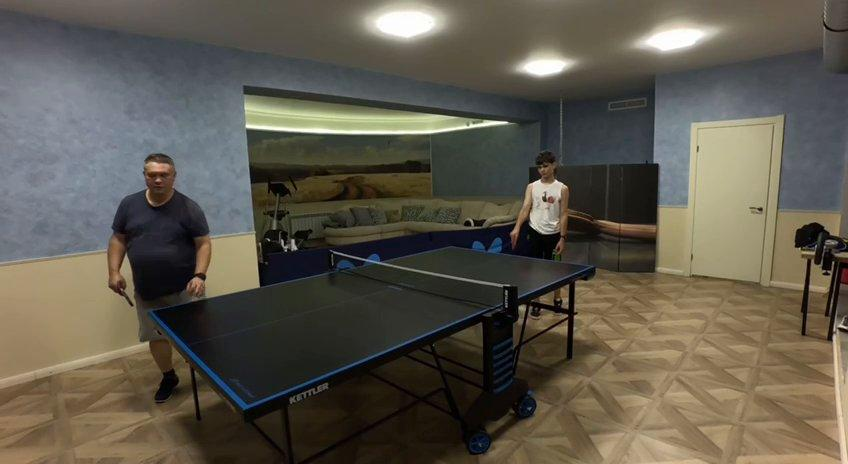Net: (329, 250, 518, 323)
Player1: (511, 152, 569, 258)
Player2: (107, 153, 211, 311)
Table: (150, 246, 592, 408)
